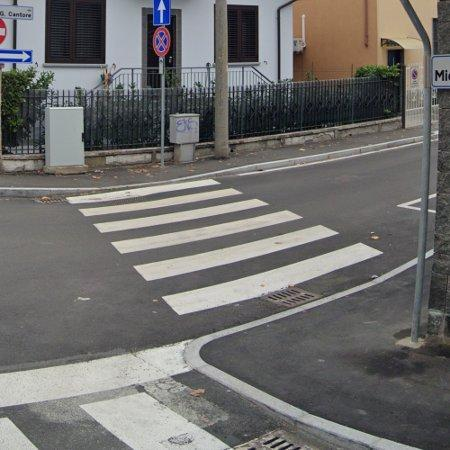crosswalks: (68, 176, 386, 316)
